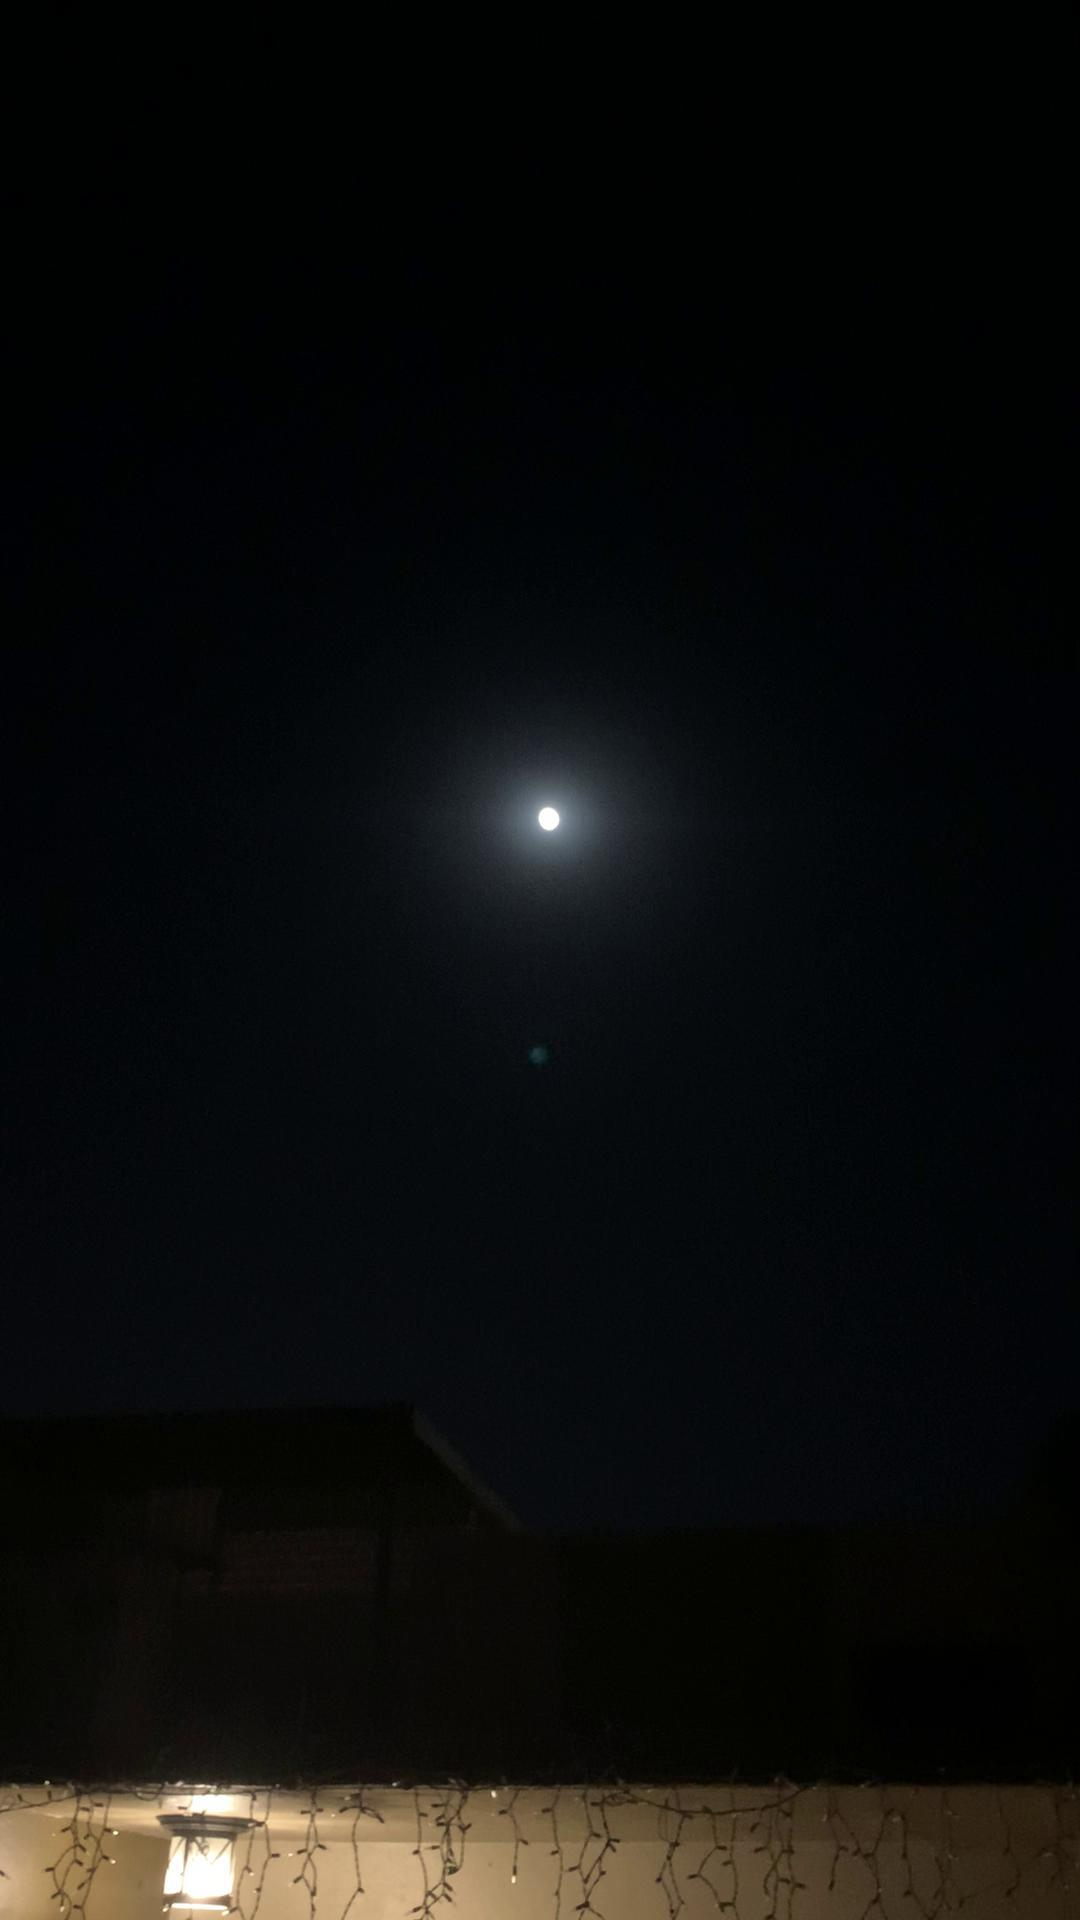moon: (509, 773, 596, 869)
